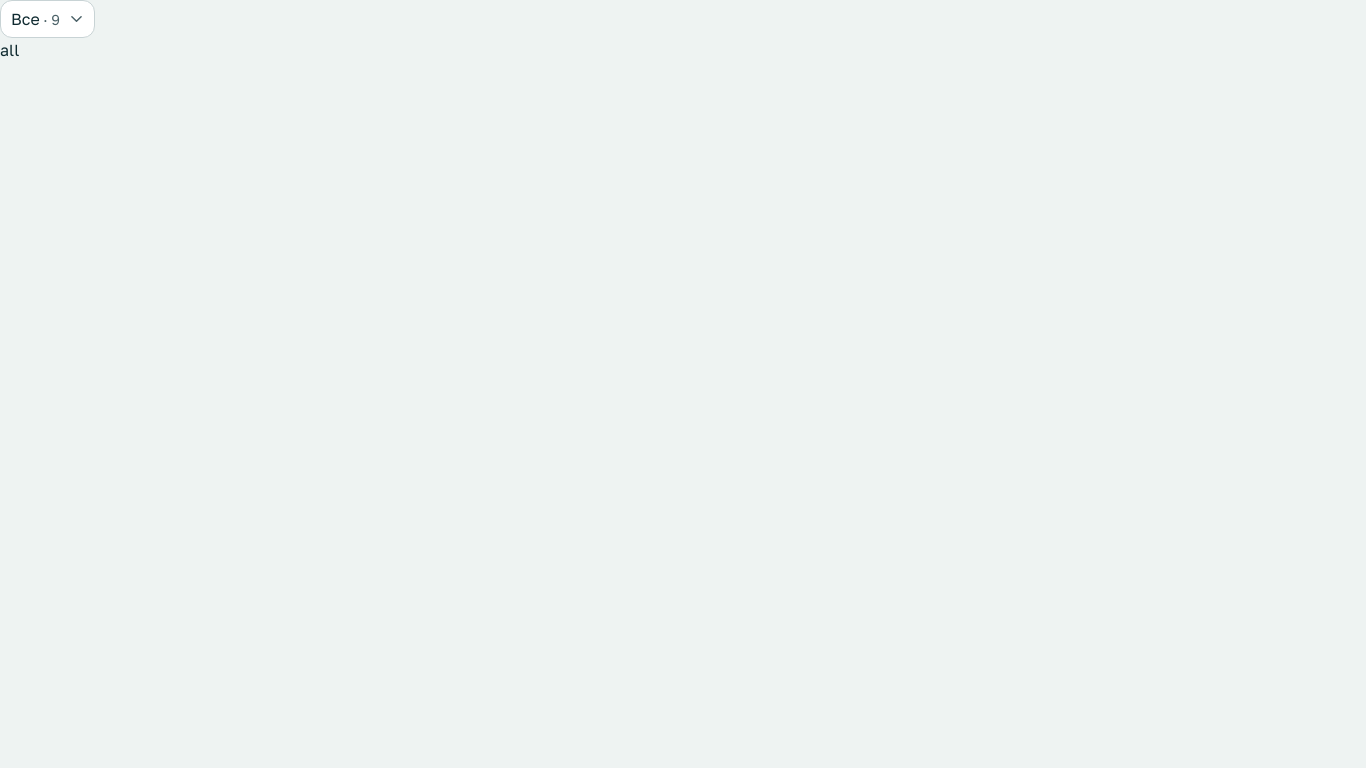
it: телефон и 4+ пунктов — выпадающий список вместо таблеток в несколько строк
Expected: the element "Кого позвать" is not shown
Click the dropdown named "Кого позвать": (48, 19) [0,0,95,38]
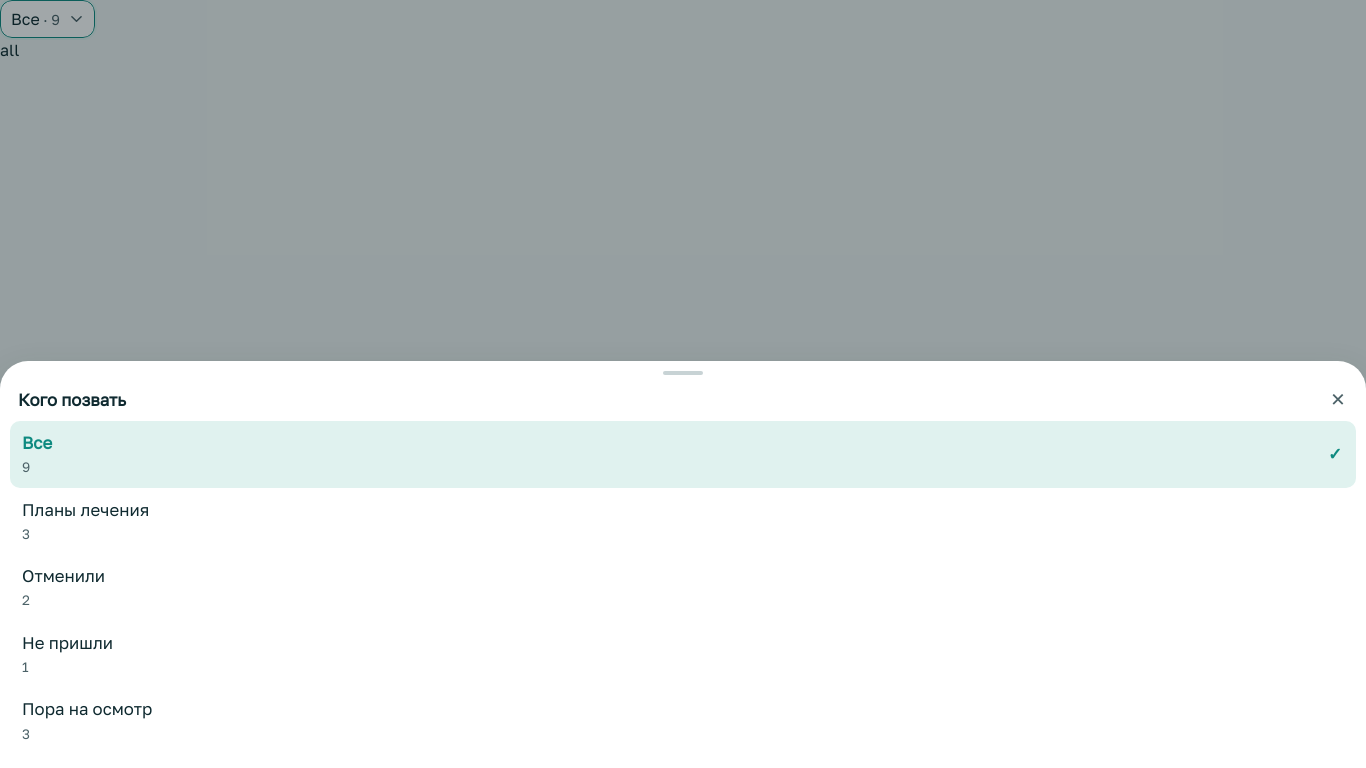
Click the option "Не пришли 1": (68, 654) [22,633,113,675]
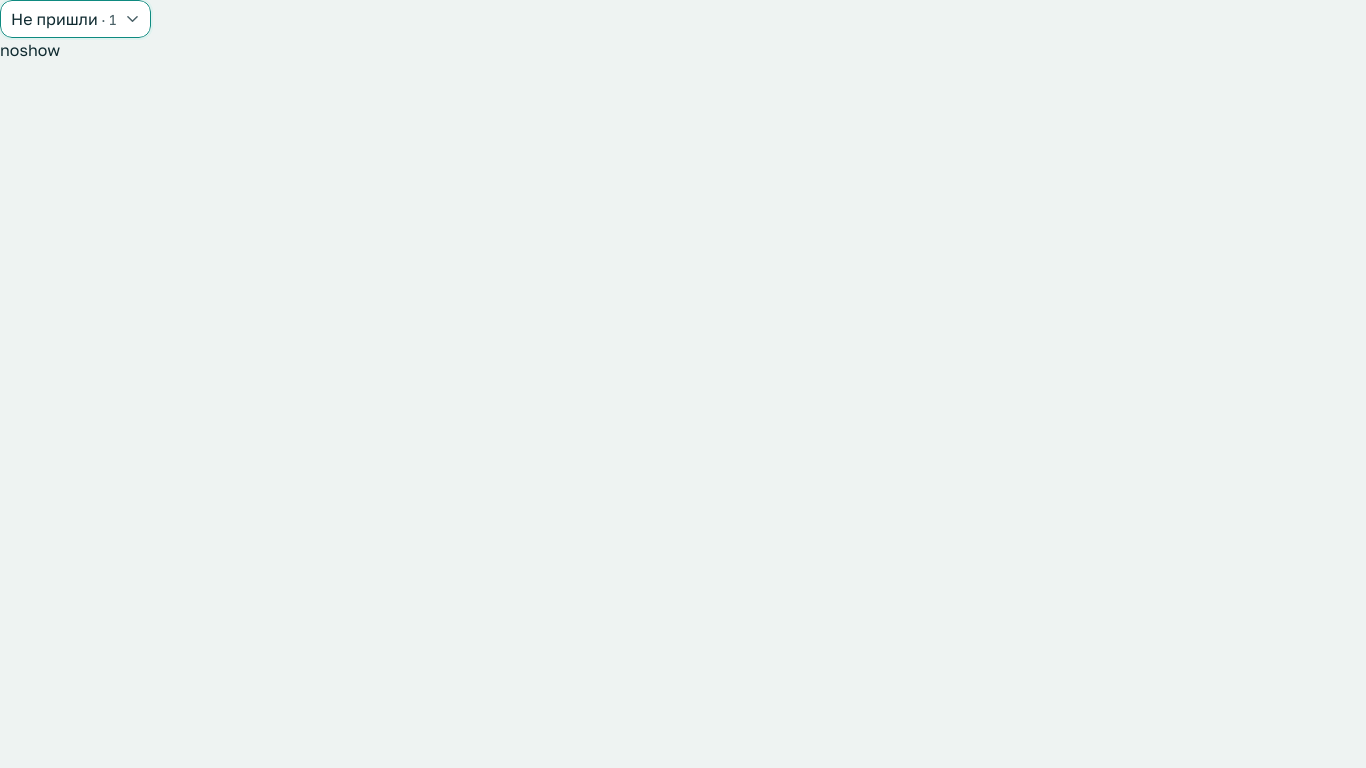
Result: the text "noshow" is shown at [0,40,60,60]
